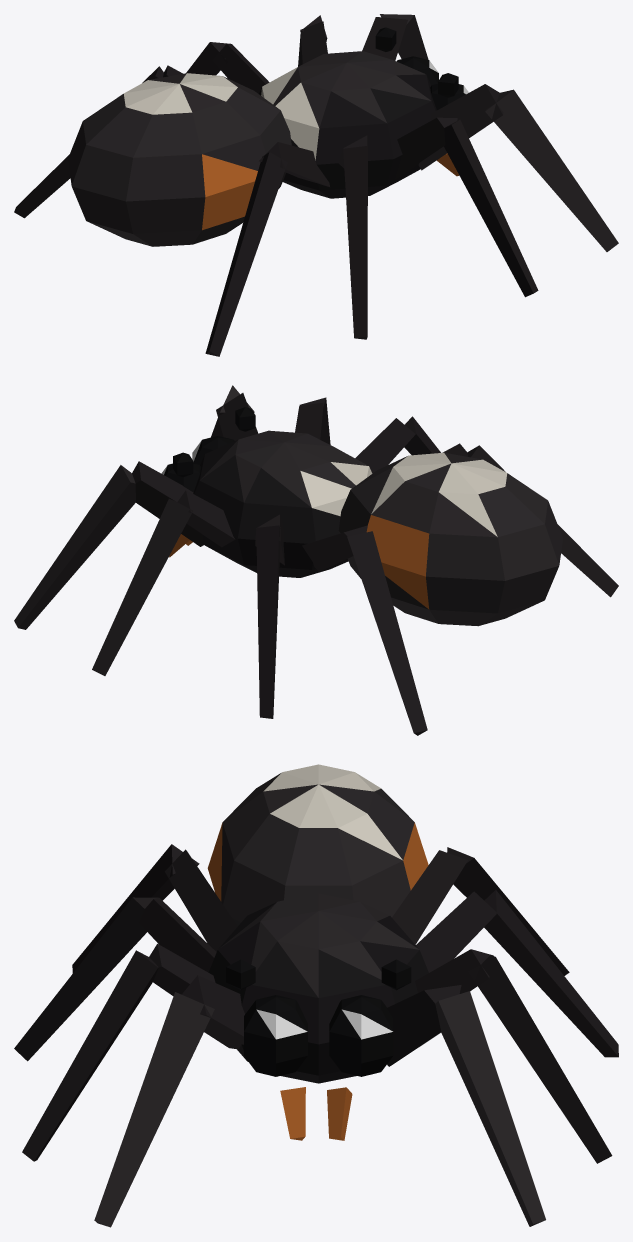
File: creatures-jumping-spider-crouched.glb
3 renders of one model, top to bottom at view 1: azimuth 30°, elevation 25°; view 2: azimuth 150°, elevation 25°; view 3: azimuth 270°, elevation 25°, orthographic. The views are drawn at different scales.
Bounding box in the file's own units: 8.52 × 3.35 × 7.78.
